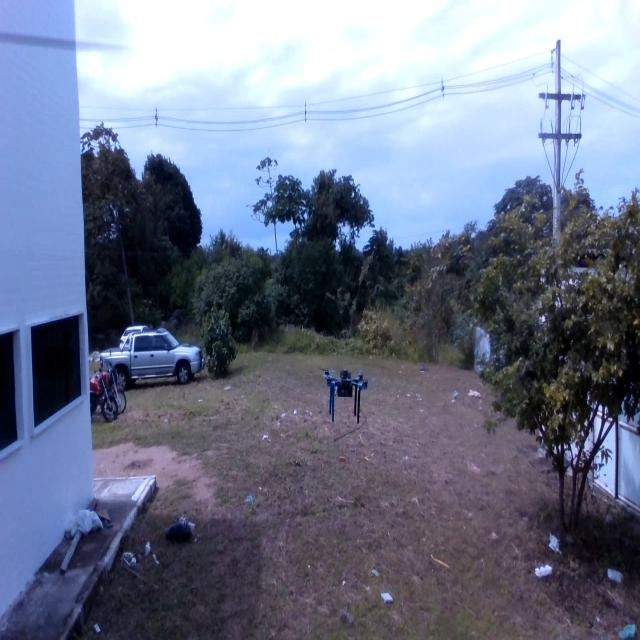-uav-: (311, 353, 374, 433)
